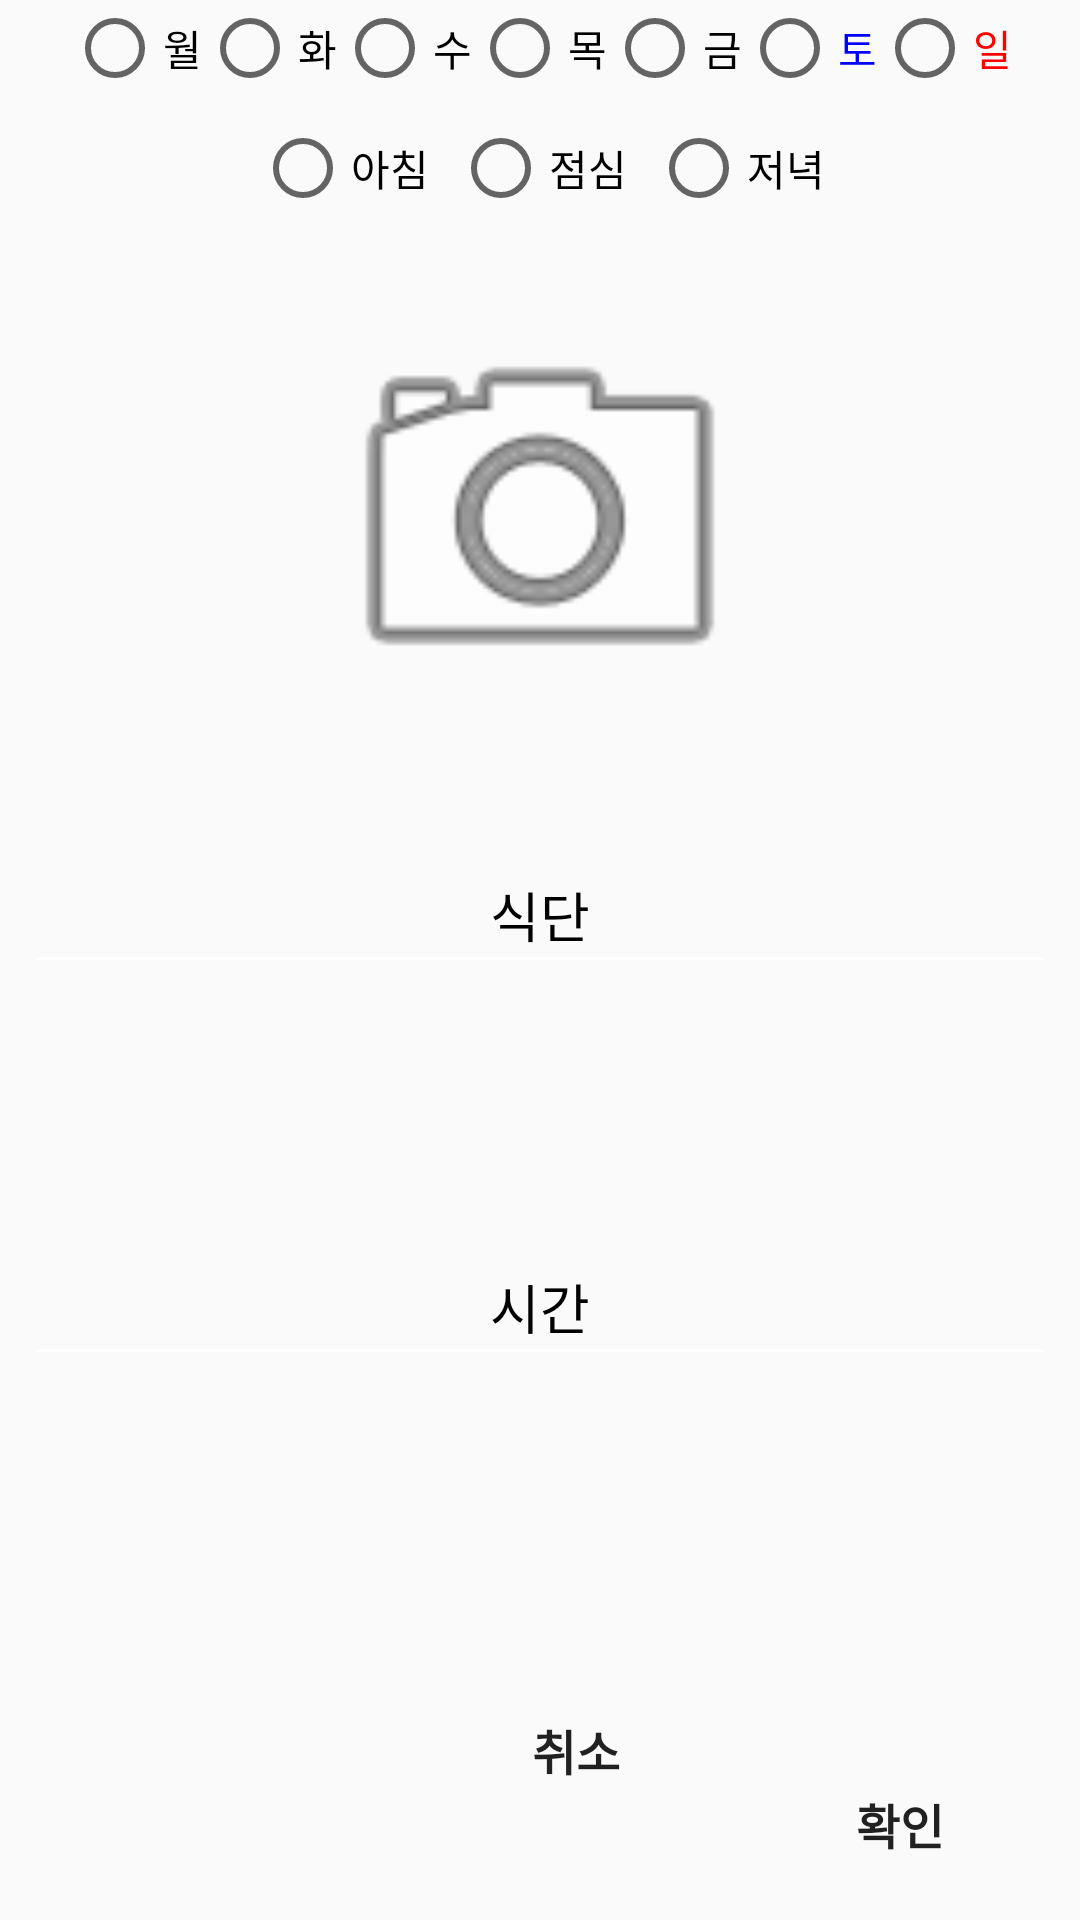

Where icons sit on this 1080 × 1920 app screen, as Rect(x1, y1, x2, y2):
camera: Rect(366, 367, 714, 645)
